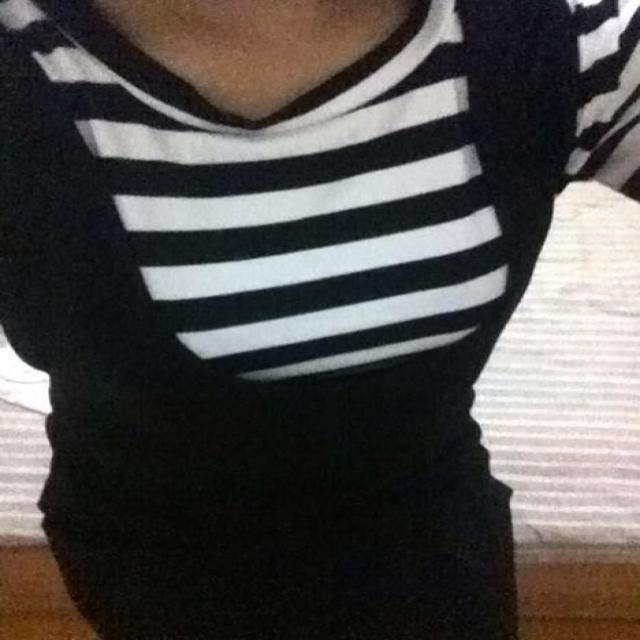short sleeve top: (1, 2, 637, 478)
vest dress: (3, 1, 568, 639)
